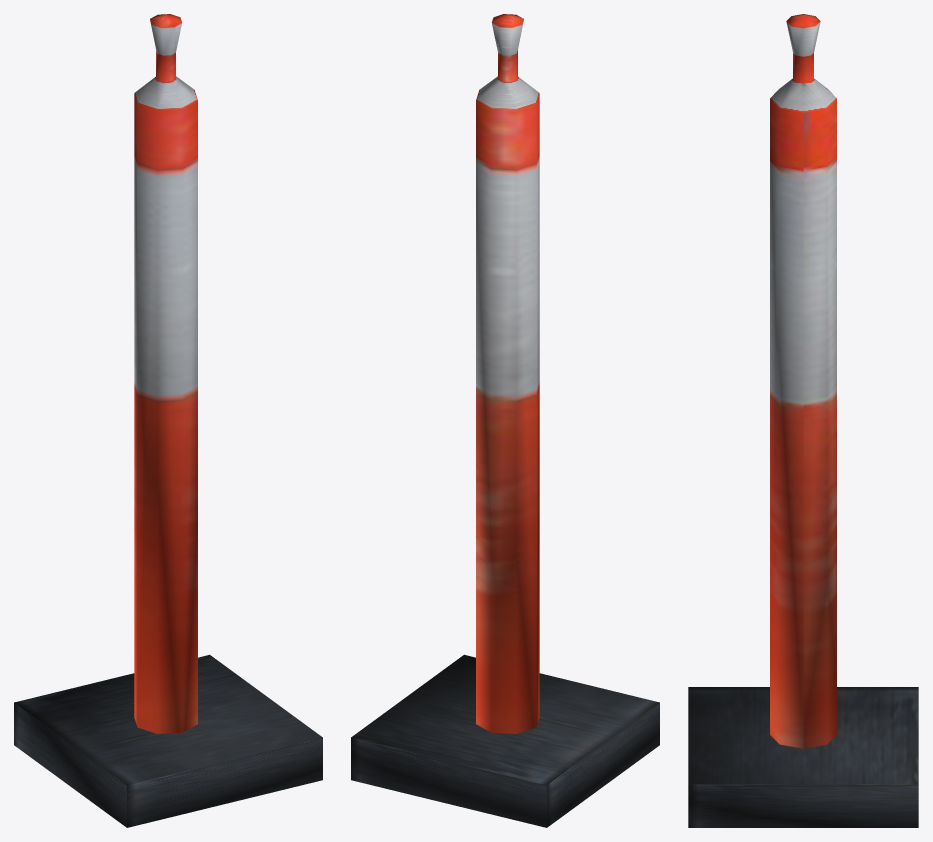
The model's file is orangepylonPost.fbx.
3 views of the same model, side by side, from view 1: azimuth 30°, elevation 25°; view 2: azimuth 150°, elevation 25°; view 3: azimuth 270°, elevation 25° (orthographic).
Parts seen in each view (by area): view 1: Cylinder02, Box03; view 2: Cylinder02, Box03; view 3: Cylinder02, Box03.
Boxes of the visible parts, x1=… form: Cylinder02: x1=134, y1=14, x2=197, y2=733; Box03: x1=14, y1=654, x2=322, y2=827; Cylinder02: x1=476, y1=14, x2=539, y2=733; Box03: x1=351, y1=654, x2=659, y2=827; Cylinder02: x1=770, y1=14, x2=836, y2=748; Box03: x1=688, y1=687, x2=918, y2=827.
Size of the model in its own units: 30 by 109 by 30.
